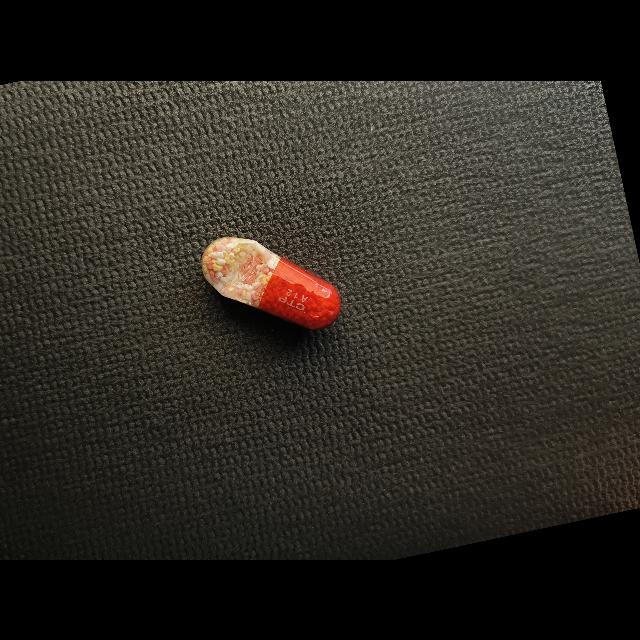Defective Capsule: (201, 236, 341, 329)
